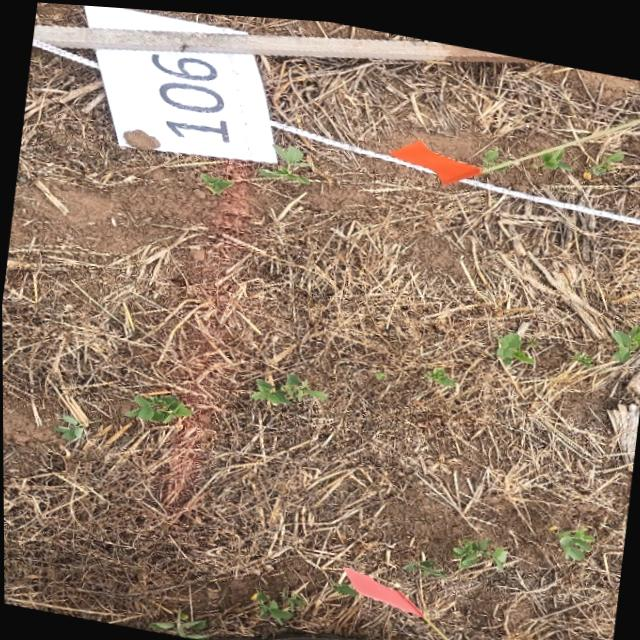soy_plant: (147, 585, 208, 637), (251, 368, 326, 399), (257, 140, 311, 179), (124, 391, 191, 420), (452, 530, 507, 563), (250, 586, 303, 620), (53, 390, 89, 437), (496, 323, 534, 357), (583, 141, 624, 171), (558, 518, 594, 551), (611, 315, 640, 352), (533, 139, 572, 162), (402, 551, 446, 571), (199, 170, 232, 190), (428, 360, 455, 379), (571, 342, 592, 358), (483, 139, 499, 158), (206, 584, 218, 594)
